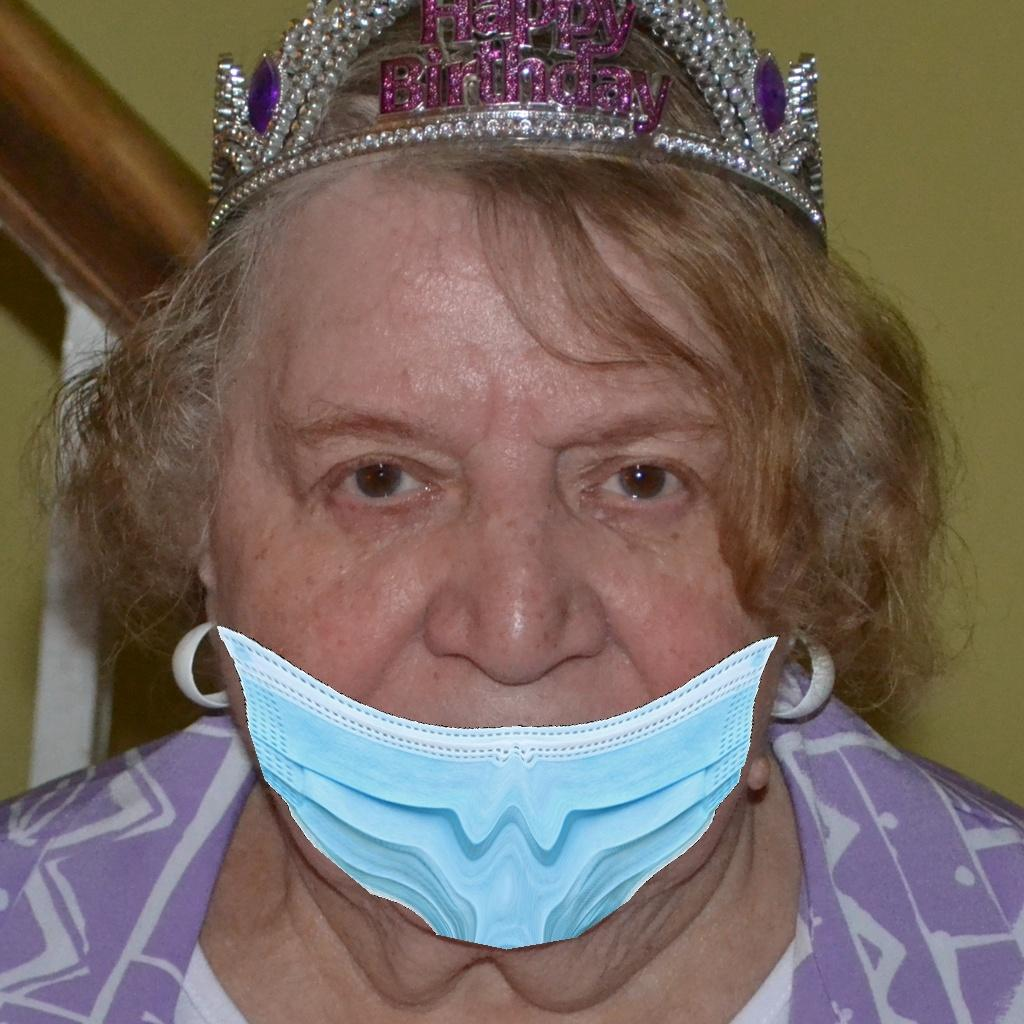Máscara Incorreta: (210, 282, 776, 932)
